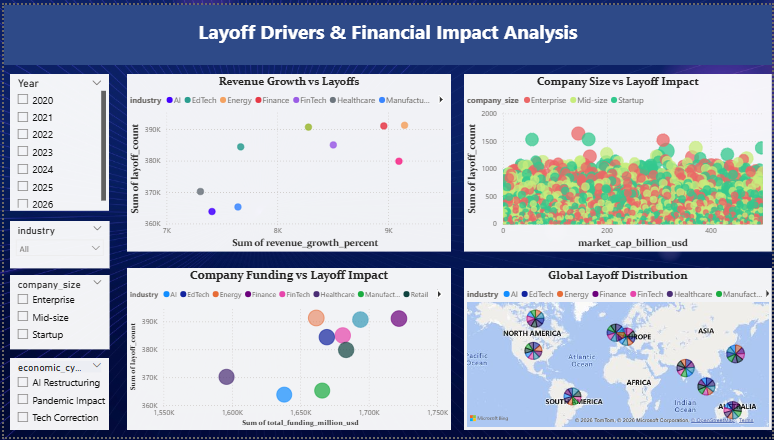

Layout of this report page (visuals, bound fields, positions):
{"tool":"powerbi","page":{"name":"Layoff Drivers & Financial Impact Analysis","canvas":[1280,720],"ordinal":1},"visuals":[{"type":"scatterChart","title":"Company Funding vs Layoff Impact","fields":{"X":["Sum(global_layoffs_2020_2026.total_funding_million_usd)"],"Y":["Sum(global_layoffs_2020_2026.layoff_count)"],"Size":["Sum(global_layoffs_2020_2026.layoff_severity_score)"],"Series":["global_layoffs_2020_2026.industry"]},"box":[205,438.3,540,270],"z":0},{"type":"scatterChart","title":"Revenue Growth vs Layoffs","fields":{"X":["Sum(global_layoffs_2020_2026.revenue_growth_percent)"],"Y":["Sum(global_layoffs_2020_2026.layoff_count)"],"Series":["global_layoffs_2020_2026.industry"]},"box":[204.3,115.7,540,295.7],"z":1000},{"type":"scatterChart","title":"Company Size vs Layoff Impact","fields":{"Y":["Sum(global_layoffs_2020_2026.layoff_count)"],"Size":["Sum(global_layoffs_2020_2026.workforce_percentage)"],"Series":["global_layoffs_2020_2026.company_size"],"X":["global_layoffs_2020_2026.market_cap_billion_usd"]},"box":[767.1,115.7,512.9,295.7],"z":2000},{"type":"map","title":"Global Layoff Distribution","fields":{"Category":["global_layoffs_2020_2026.country"],"Size":["Sum(global_layoffs_2020_2026.layoff_count)"],"Series":["global_layoffs_2020_2026.industry"]},"box":[767.1,438.6,512.9,270],"z":3000},{"type":"textbox","box":[0,0,1280,100],"z":4000},{"type":"slicer","fields":{"Values":["global_layoffs_2020_2026.layoff_date.Variation.Date Hierarchy.Year"]},"box":[10,115,165,228.3],"z":5000},{"type":"slicer","fields":{"Values":["global_layoffs_2020_2026.industry"]},"box":[10,360,165.7,78.6],"z":6000},{"type":"slicer","fields":{"Values":["global_layoffs_2020_2026.company_size"]},"box":[10,450,165.7,124.3],"z":7000},{"type":"slicer","fields":{"Values":["global_layoffs_2020_2026.economic_cycle_flag"]},"box":[10,588.3,165,120],"z":8000}]}

Visuals, with their boxes in screenshot pixels (x1, y1, x2, y2), scaled from the page's 1280x720 canvas onto the 774x440 screenshot:
"Company Funding vs Layoff Impact" scatterChart: rect(124, 268, 450, 433)
"Revenue Growth vs Layoffs" scatterChart: rect(124, 71, 450, 251)
"Company Size vs Layoff Impact" scatterChart: rect(464, 71, 773, 251)
"Global Layoff Distribution" map: rect(464, 268, 773, 433)
textbox: rect(0, 0, 773, 61)
slicer - global_layoffs_2020_2026.layoff_date.Variation.Date Hierarchy.Year: rect(6, 70, 106, 210)
slicer - global_layoffs_2020_2026.industry: rect(6, 220, 106, 268)
slicer - global_layoffs_2020_2026.company_size: rect(6, 275, 106, 351)
slicer - global_layoffs_2020_2026.economic_cycle_flag: rect(6, 360, 106, 433)
